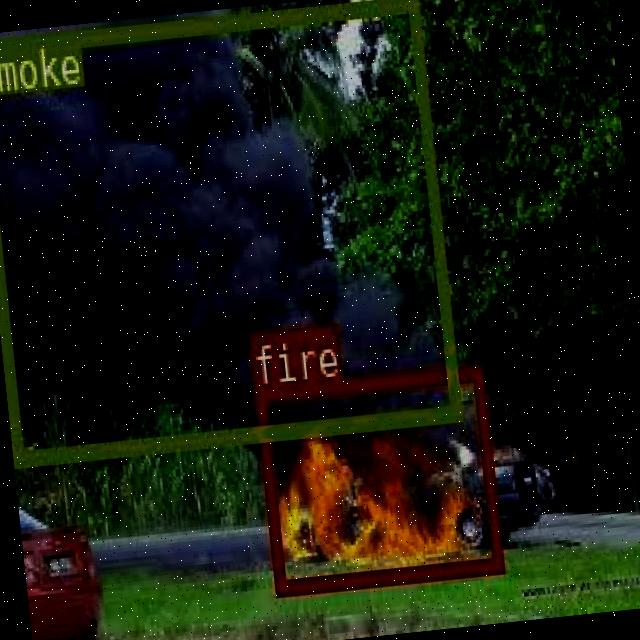fire: (252, 362, 501, 594)
smoke: (0, 0, 460, 463)
